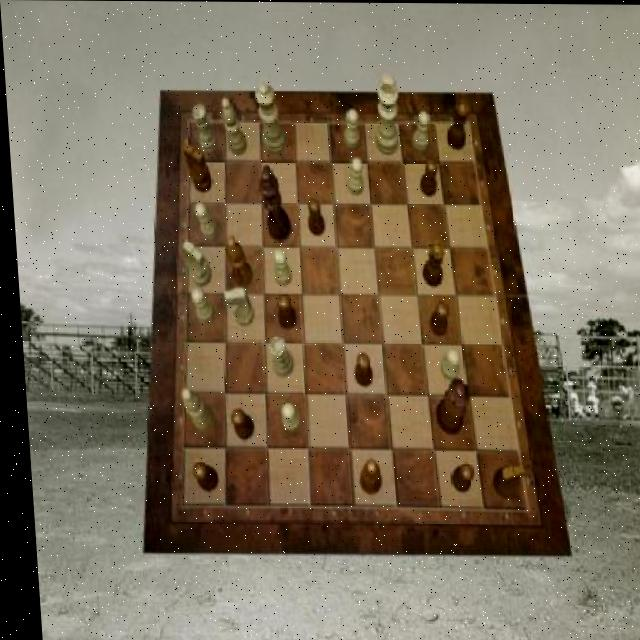bishop: (222, 235, 249, 288), (352, 459, 377, 495)
black-bishop: (254, 166, 288, 242)
black-king: (180, 144, 210, 193), (485, 463, 520, 499)
black-knight: (224, 409, 249, 442), (186, 461, 212, 492), (444, 462, 469, 494), (417, 158, 438, 195), (423, 301, 445, 336), (303, 197, 322, 235), (349, 351, 368, 386), (273, 294, 292, 328)
black-pawn: (427, 378, 466, 434)
black-queen: (443, 100, 469, 151), (415, 241, 441, 287)
black-rook: (219, 96, 245, 154), (176, 388, 209, 433)
white-bishop: (370, 73, 399, 155)
white-king: (178, 241, 207, 287), (220, 287, 249, 326)
white-knight: (191, 203, 216, 241), (186, 287, 211, 323), (408, 110, 429, 150), (340, 108, 358, 148), (268, 249, 287, 286), (434, 347, 455, 380), (343, 157, 361, 195), (276, 403, 295, 432)
white-pawn: (254, 83, 285, 154)
white-queen: (190, 104, 215, 153), (264, 338, 289, 379)
